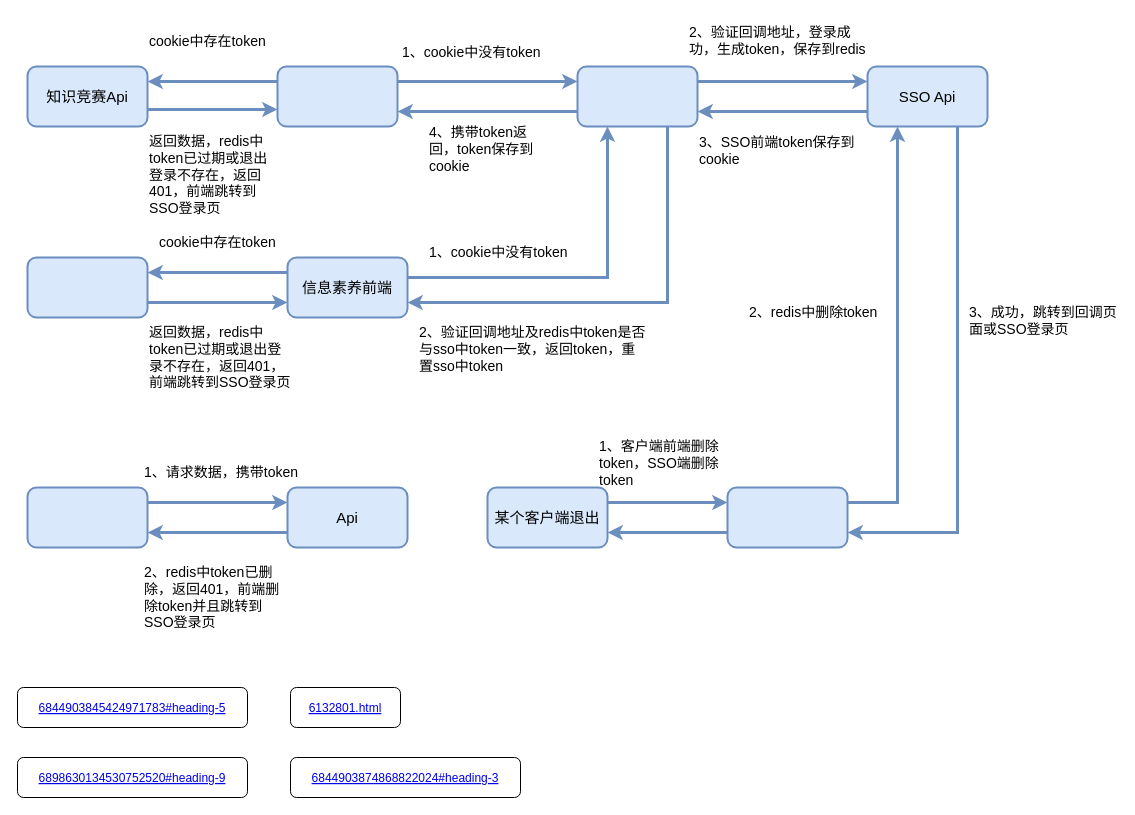
Image size: 1135x815. Some labels were removed from this diagram. The shapes that lost their labels are listed below. From the top down, each one's centre as x and y in pixels, then its label:
pixel 337 96: 知识竞赛前端
pixel 637 96: SSO前端登录页
pixel 87 287: 信息素养Api
pixel 87 517: 退出状态 其他客户端
pixel 787 517: SSO前端退出页
